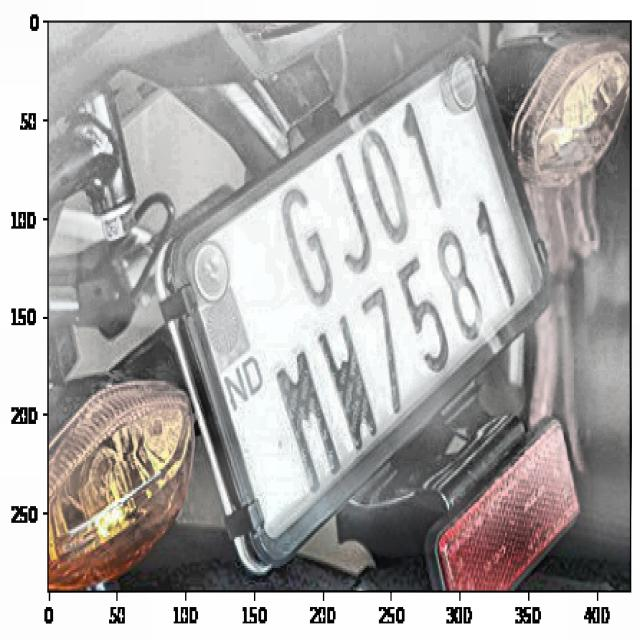license_plate: (260, 91, 526, 508)
